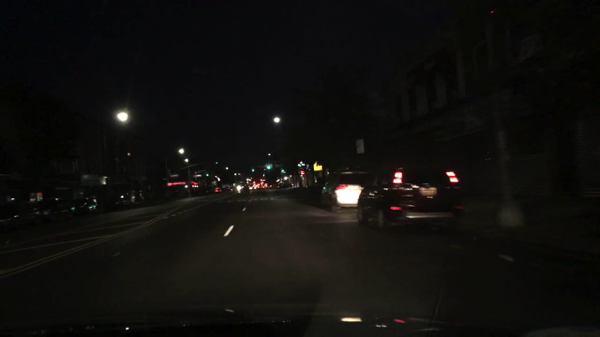car: (356, 163, 464, 232), (322, 170, 374, 213), (0, 201, 54, 235), (54, 198, 77, 222), (72, 198, 89, 215), (111, 193, 126, 210), (87, 195, 100, 214), (126, 191, 138, 207), (220, 187, 234, 193), (210, 187, 221, 194), (257, 184, 265, 191), (265, 184, 274, 190), (248, 186, 257, 191)
traffic light: (265, 164, 272, 170), (280, 169, 286, 174), (205, 173, 210, 178), (251, 169, 255, 174)
traffic sign: (355, 140, 364, 155), (313, 162, 324, 171), (191, 174, 203, 179), (274, 164, 283, 169), (170, 174, 179, 178), (162, 177, 169, 182)
